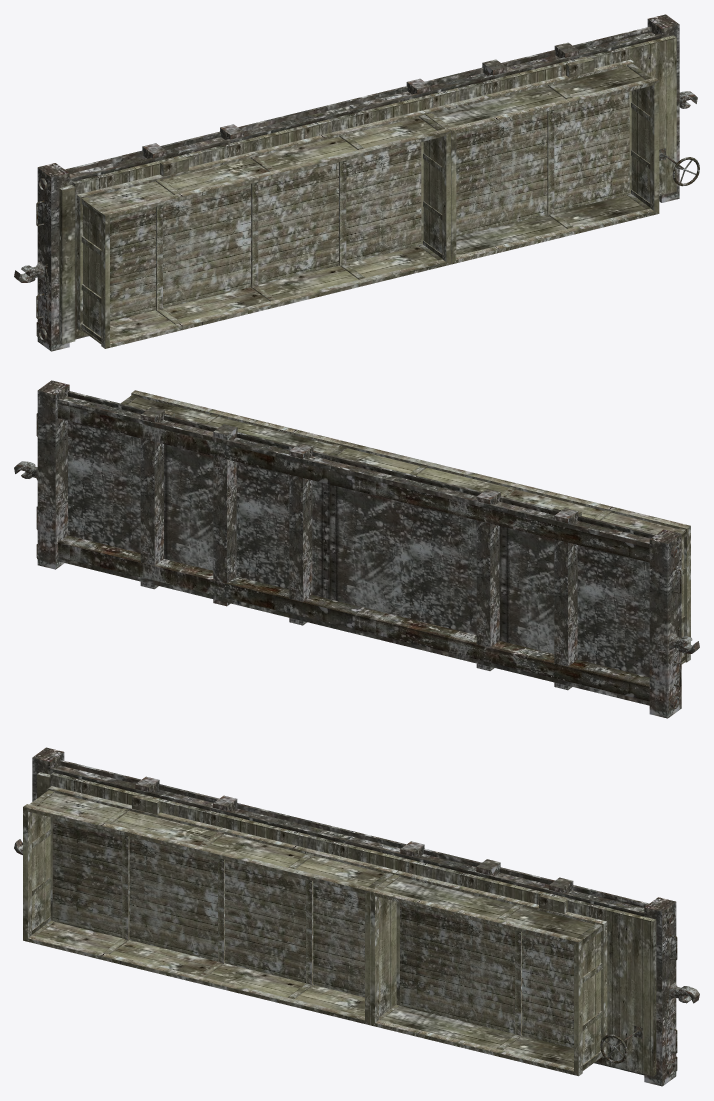
Rendered from prop_traincar_flatfullbox_snow.glb.
3 renders of one model, top to bottom at view 1: azimuth 30°, elevation 25°; view 2: azimuth 150°, elevation 25°; view 3: azimuth 330°, elevation 25°, orthographic.
Size of the model in its own units: 397 by 97.54 by 45.97.
Materials: 1 (1 with a texture image).
